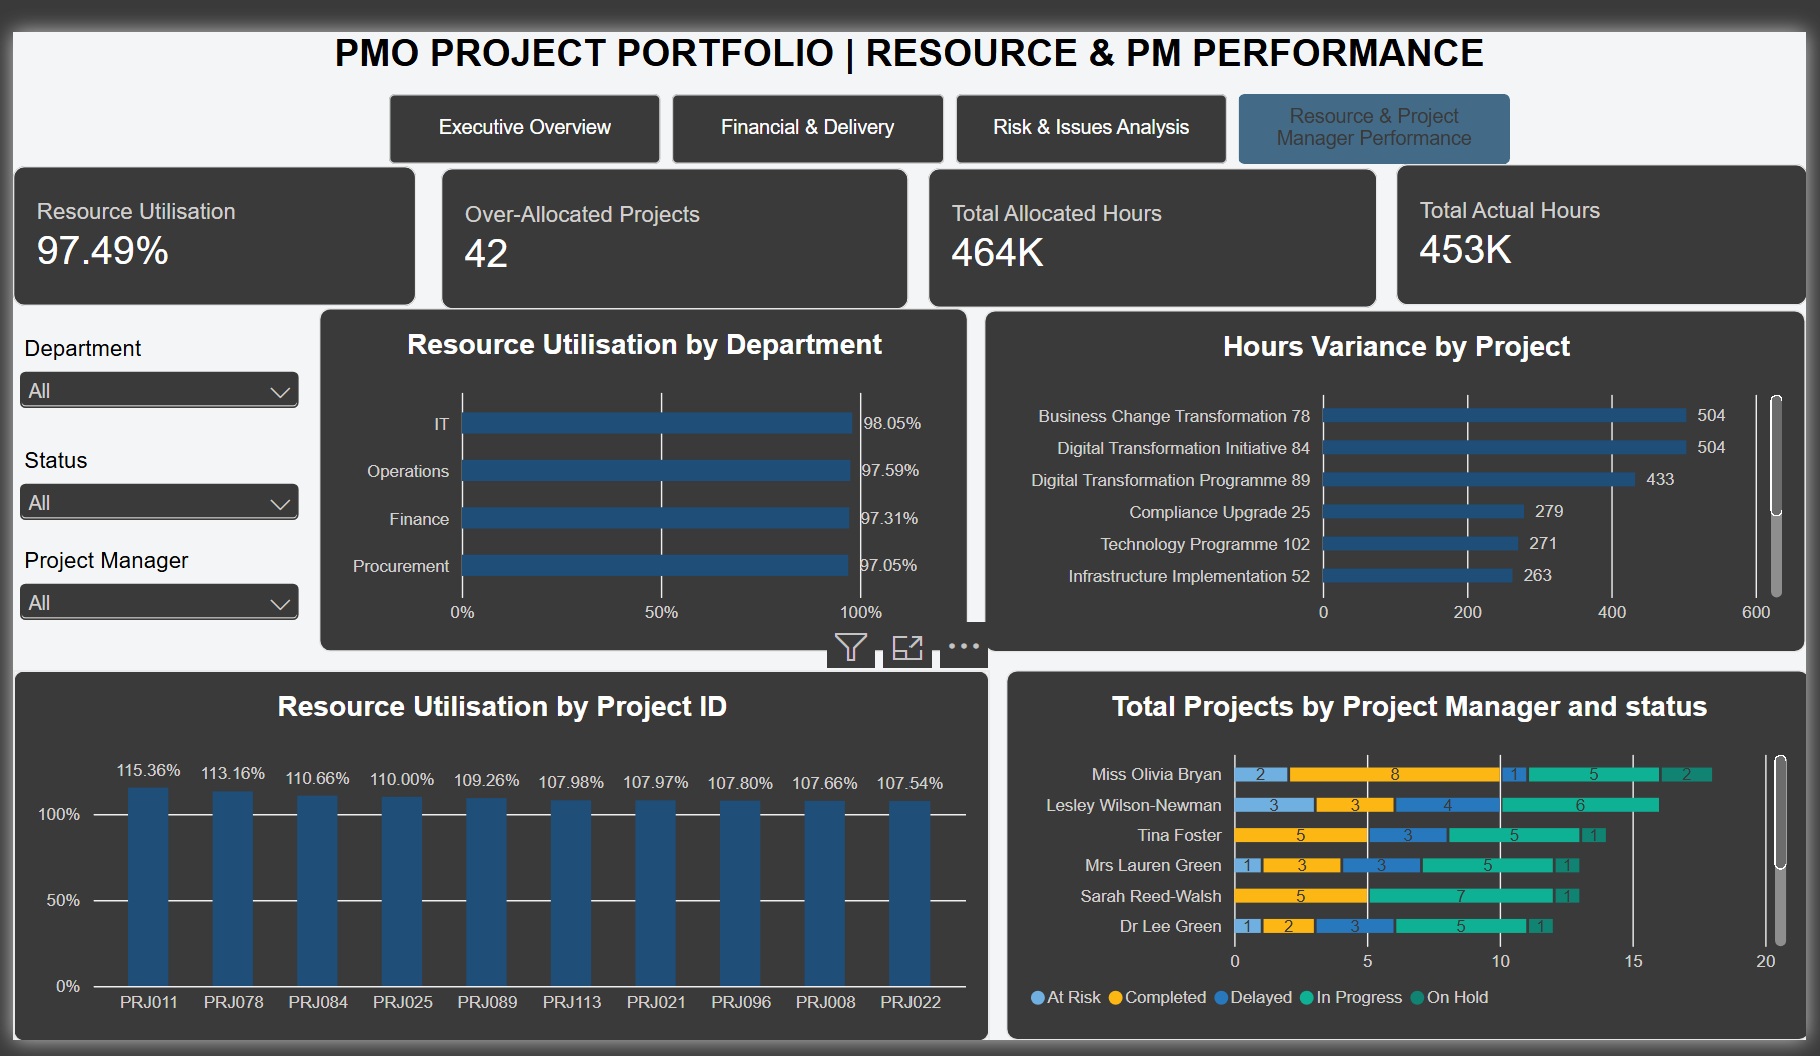

The page's visual inventory and layout, read from the dashboard file:
{"tool":"powerbi","page":{"name":"Resource & Project Manager Performance","canvas":[1280,720],"ordinal":3},"visuals":[{"type":"textbox","box":[0,0,1280,45.7],"z":0},{"type":"cardVisual","fields":{"Data":["pmo_project_portfolio resources.Resource Utilisation"]},"box":[0,95.7,288.6,100],"z":1000},{"type":"cardVisual","fields":{"Data":["pmo_project_portfolio resources.Over-Allocated Projects"]},"box":[305.7,97.1,334.3,101.4],"z":2000},{"type":"cardVisual","fields":{"Data":["Sum(pmo_project_portfolio resources.allocated_hours)"]},"box":[652.9,97.1,321.4,100],"z":3000},{"type":"cardVisual","fields":{"Data":["Sum(pmo_project_portfolio resources.actual_hours)"]},"box":[987.1,94.3,294.3,101.4],"z":4000},{"type":"clusteredBarChart","fields":{"Category":["pmo_project_portfolio project_managers.department"],"Y":["pmo_project_portfolio resources.Resource Utilisation"]},"box":[218.6,197.1,462.9,245.7],"z":5000},{"type":"clusteredBarChart","fields":{"Category":["pmo_project_portfolio projects.project_name"],"Y":["pmo_project_portfolio resources.Hours Variance"]},"box":[692.9,198.6,587.1,244.3],"z":6000},{"type":"clusteredColumnChart","fields":{"Category":["pmo_project_portfolio projects.project_id"],"Y":["pmo_project_portfolio resources.Resource Utilisation"]},"box":[0,455.7,697.1,265.7],"z":7000},{"type":"barChart","fields":{"Category":["pmo_project_portfolio project_managers.manager_name"],"Y":["pmo_project_portfolio projects.Total Projects"],"Series":["pmo_project_portfolio projects.status"]},"box":[708.6,455.7,574.3,264.3],"z":8000},{"type":"slicer","fields":{"Values":["pmo_project_portfolio project_managers.department"]},"box":[0,217.5,208.8,71.2],"z":9000},{"type":"slicer","fields":{"Values":["pmo_project_portfolio projects.status"]},"box":[0,297.5,208.8,71],"z":10000},{"type":"slicer","fields":{"Values":["pmo_project_portfolio project_managers.manager_name"]},"box":[0,368.8,208.8,71],"z":11000},{"type":"pageNavigator","box":[268.6,44.3,800,50],"z":12000}]}

Visuals, with their boxes in screenshot pixels (x1, y1, x2, y2):
textbox: [x1=5, y1=28, x2=1800, y2=93]
cardVisual - pmo_project_portfolio resources.Resource Utilisation: [x1=5, y1=163, x2=409, y2=303]
cardVisual - pmo_project_portfolio resources.Over-Allocated Projects: [x1=433, y1=165, x2=902, y2=307]
cardVisual - Sum(pmo_project_portfolio resources.allocated_hours): [x1=920, y1=165, x2=1371, y2=305]
cardVisual - Sum(pmo_project_portfolio resources.actual_hours): [x1=1389, y1=161, x2=1802, y2=303]
clusteredBarChart - pmo_project_portfolio project_managers.department x pmo_project_portfolio resources.Resource Utilisation: [x1=311, y1=305, x2=960, y2=649]
clusteredBarChart - pmo_project_portfolio projects.project_name x pmo_project_portfolio resources.Hours Variance: [x1=976, y1=307, x2=1800, y2=649]
clusteredColumnChart - pmo_project_portfolio projects.project_id x pmo_project_portfolio resources.Resource Utilisation: [x1=5, y1=667, x2=982, y2=1040]
barChart - pmo_project_portfolio project_managers.manager_name x pmo_project_portfolio projects.Total Projects: [x1=998, y1=667, x2=1804, y2=1038]
slicer - pmo_project_portfolio project_managers.department: [x1=5, y1=333, x2=298, y2=433]
slicer - pmo_project_portfolio projects.status: [x1=5, y1=446, x2=298, y2=545]
slicer - pmo_project_portfolio project_managers.manager_name: [x1=5, y1=546, x2=298, y2=645]
pageNavigator: [x1=381, y1=91, x2=1503, y2=161]
